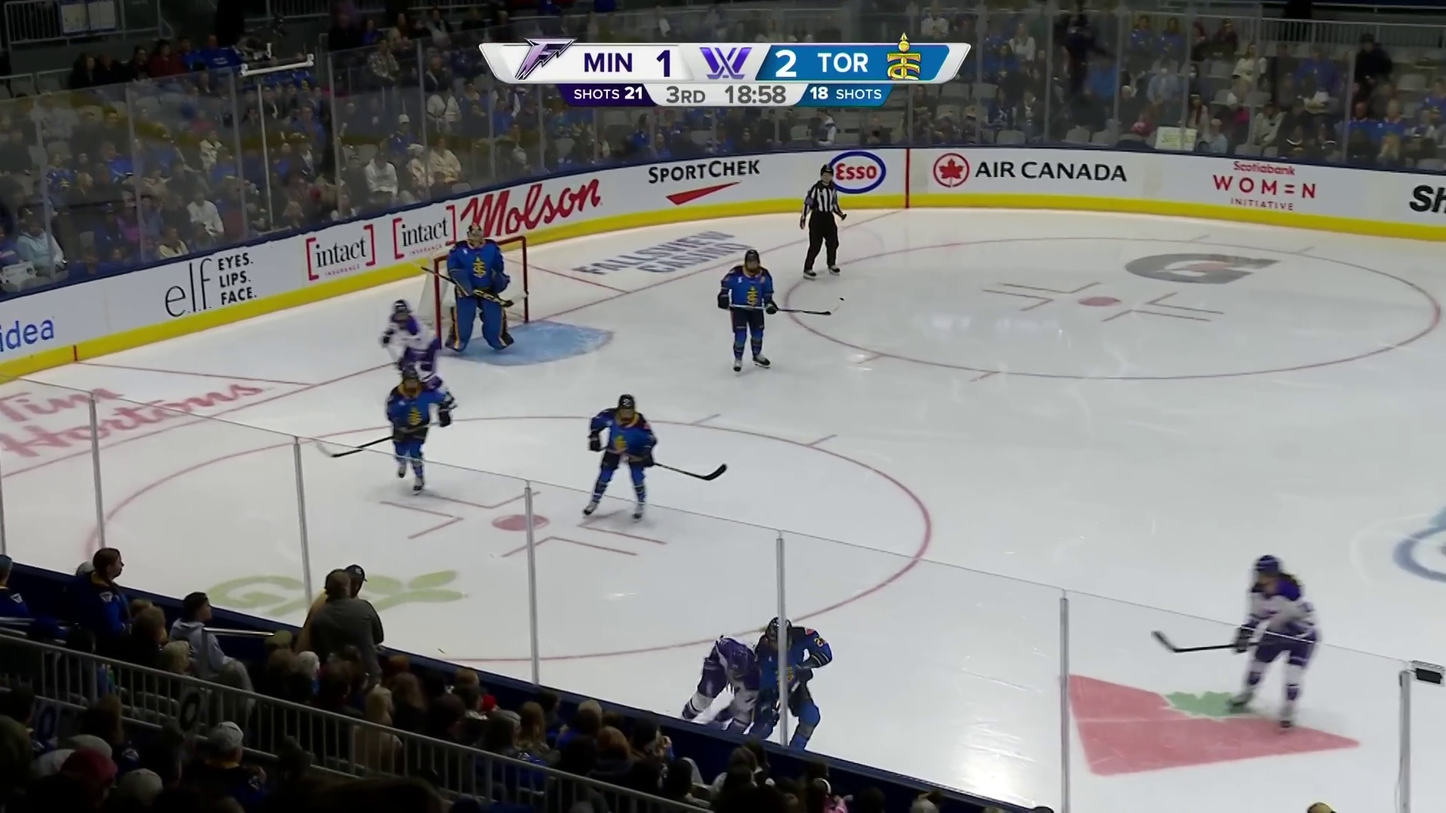goaltender: (442, 220, 514, 355)
player: (1223, 554, 1321, 729), (583, 393, 659, 521), (384, 365, 454, 495), (716, 247, 780, 375)
referee: (796, 164, 847, 280)
